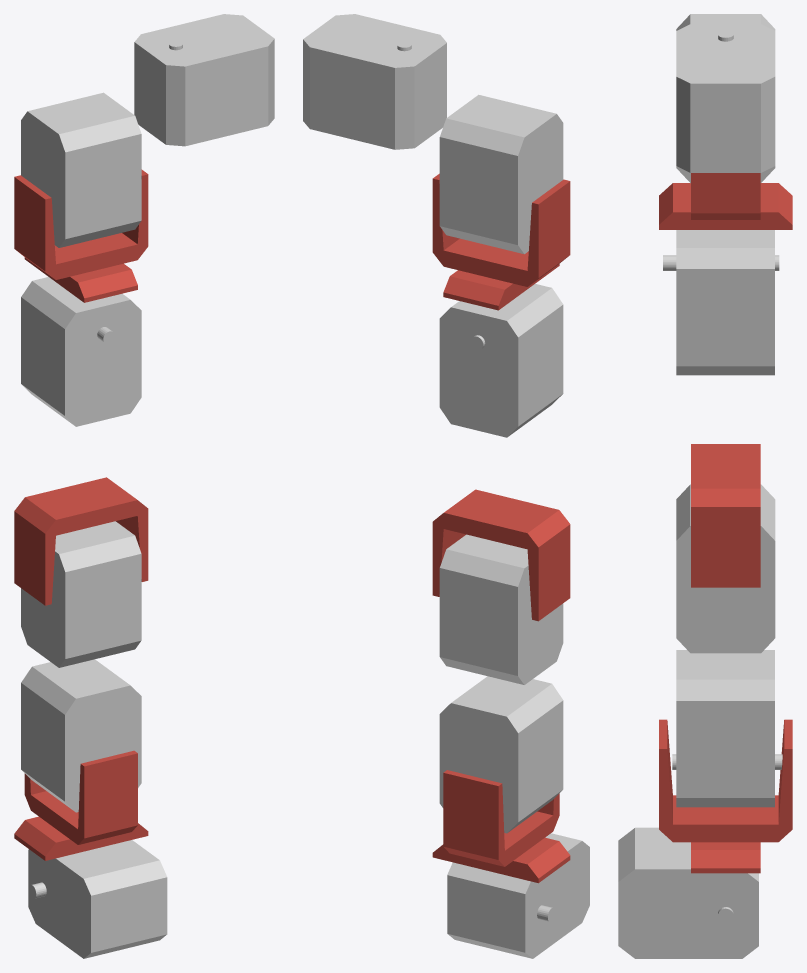
File: right_leg.dae
3 views of the same model, side by side, from view 1: azimuth 30°, elevation 25°; view 2: azimuth 150°, elevation 25°; view 3: azimuth 270°, elevation 25° (orthographic). The views are drawn at different scales.
Parts seen in each view (by area): view 1: Servo_017, Servo_007, Servo_005, Servo_001, Servo_003, Servo_015, Cube_008, Cube_030, Cube_032, Cube_004, Cube_005; view 2: Servo_017, Servo_007, Servo_005, Servo_001, Servo_003, Servo_015, Cube_008, Cube_030, Cube_032, Cube_004, Cube_005; view 3: Servo_003, Servo_015, Servo_017, Servo_005, Cube_008, Servo_001, Cube_032, Cube_005, Cube_030, Cube_004, Servo_007.
Part boxes in pixels (x1,y1,x2,y2): Servo_017: [134, 14, 274, 146]; Servo_007: [21, 92, 141, 247]; Servo_005: [21, 277, 141, 426]; Servo_001: [21, 521, 141, 667]; Servo_003: [21, 659, 141, 812]; Servo_015: [28, 840, 167, 958]; Cube_008: [14, 477, 148, 605]; Cube_030: [14, 169, 148, 279]; Cube_032: [24, 750, 137, 844]; Cube_004: [14, 816, 148, 860]; Cube_005: [24, 257, 137, 302]; Servo_017: [303, 14, 446, 149]; Servo_007: [439, 94, 563, 254]; Servo_005: [439, 283, 563, 437]; Servo_001: [439, 534, 563, 684]; Servo_003: [439, 676, 563, 833]; Servo_015: [447, 833, 589, 958]; Cube_008: [432, 489, 570, 621]; Cube_030: [432, 173, 570, 286]; Cube_032: [443, 770, 559, 866]; Cube_004: [432, 837, 570, 883]; Cube_005: [443, 264, 559, 310]; Servo_003: [676, 650, 774, 807]; Servo_015: [618, 827, 758, 958]; Servo_017: [676, 24, 775, 172]; Servo_005: [676, 230, 774, 375]; Cube_008: [691, 444, 760, 587]; Servo_001: [676, 484, 775, 653]; Cube_032: [659, 719, 792, 842]; Cube_005: [659, 183, 792, 229]; Cube_030: [691, 173, 760, 219]; Cube_004: [691, 842, 760, 873]; Servo_007: [676, 14, 775, 183].
Bounding box in the file's own units: 1.07 × 0.626 × 3.79.
